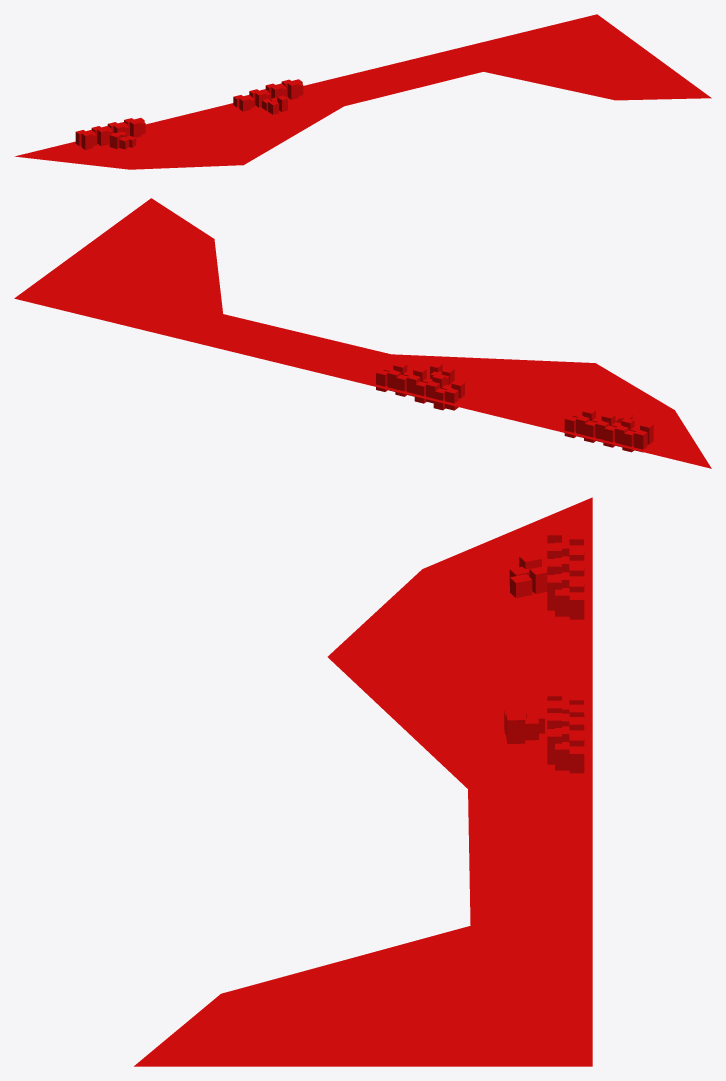
Rendered from red 1.fbx.
3 renders of one model, top to bottom at view 1: azimuth 30°, elevation 25°; view 2: azimuth 150°, elevation 25°; view 3: azimuth 270°, elevation 25°, orthographic. The views are drawn at different scales.
Visible parts, largest first — view 1: polySurface7; view 2: polySurface7; view 3: polySurface7.
Part boxes in pixels (left/top/right/bottom): polySurface7: left=14, top=14, right=711, bottom=169; polySurface7: left=14, top=198, right=711, bottom=468; polySurface7: left=134, top=497, right=592, bottom=1066.
Bounding box in the file's own units: 450 × 16.24 × 153.
